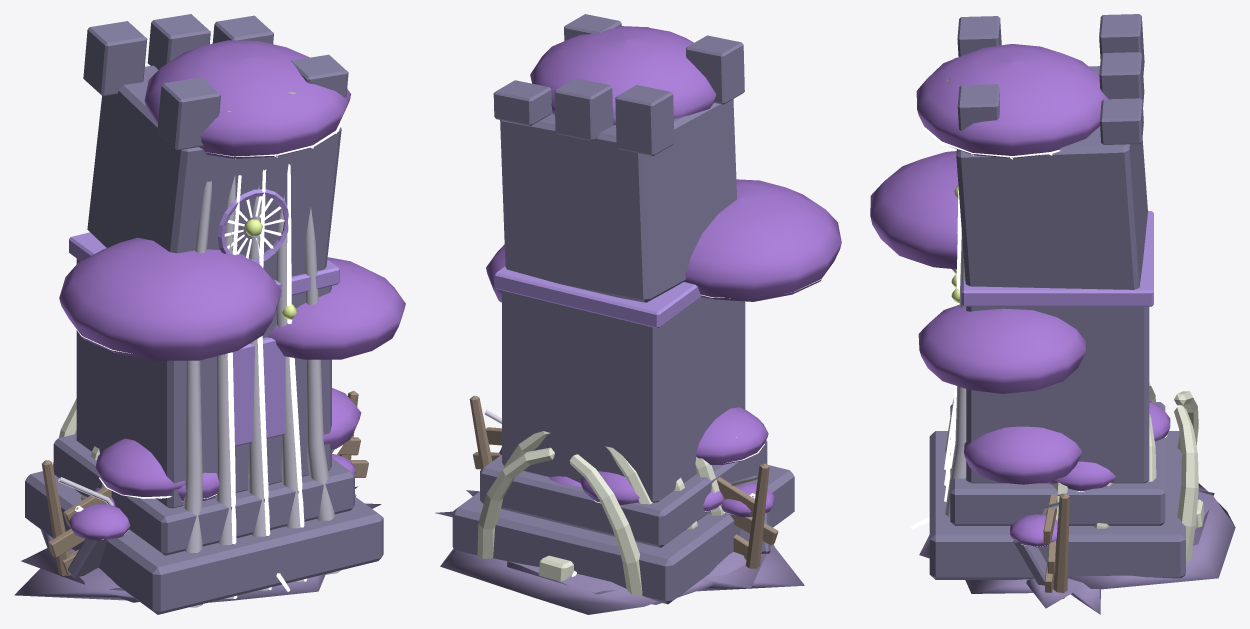
Rendered from FungalF9Kit.fbx.
3 renders of one model, left to right at view 1: azimuth 30°, elevation 25°; view 2: azimuth 150°, elevation 25°; view 3: azimuth 270°, elevation 25°, orthographic. The views are drawn at different scales.
Parts seen in each view (by area): view 1: RotcapTower__TRIM, RotcapTower__CAP, RotcapTower__STEM, RotcapTower__ACCENT, RotcapTower__GLOW, RotcapCluster__CAP, RotcapTower__MOSS, BrokenBarricade__WOOD, BrokenBarricade__CAP, BrokenBarricade__TRIM, RotMyceliumWeb__MOSS, OssuaryBones__CAP; view 2: RotcapTower__TRIM, RotcapTower__CAP, OssuaryBones__ALT, RotcapTower__MOSS, RotcapTower__ACCENT, BrokenBarricade__WOOD, RotcapCluster__CAP, RotMyceliumWeb__MOSS, BrokenBarricade__CAP; view 3: RotcapTower__TRIM, RotcapTower__CAP, RotcapCluster__CAP, RotcapTower__ACCENT, RotcapTower__MOSS, OssuaryBones__ALT, BrokenBarricade__WOOD, RotcapTower__STEM, RotcapTower__GLOW, BrokenBarricade__MOSS, OssuaryBones__CAP, RotMyceliumWeb__MOSS (+2 smaller).
Boxes of the visible parts, x1,y1,x2,y2 form: RotcapTower__TRIM: (25, 14, 383, 614); RotcapTower__CAP: (59, 40, 405, 360); RotcapTower__STEM: (183, 176, 341, 607); RotcapTower__ACCENT: (69, 189, 339, 446); RotcapTower__GLOW: (68, 113, 344, 598); RotcapCluster__CAP: (95, 388, 361, 497); RotcapTower__MOSS: (14, 548, 325, 602); BrokenBarricade__WOOD: (42, 390, 368, 577); BrokenBarricade__CAP: (68, 454, 355, 540); BrokenBarricade__TRIM: (68, 539, 107, 577); RotMyceliumWeb__MOSS: (21, 547, 139, 602); OssuaryBones__CAP: (94, 472, 219, 506); RotcapTower__TRIM: (452, 14, 794, 604); RotcapTower__CAP: (486, 26, 841, 302); OssuaryBones__ALT: (477, 431, 724, 596); RotcapTower__MOSS: (440, 544, 804, 614); RotcapTower__ACCENT: (494, 266, 700, 328); BrokenBarricade__WOOD: (469, 395, 778, 568); RotcapCluster__CAP: (580, 407, 768, 505); RotMyceliumWeb__MOSS: (507, 554, 766, 594); BrokenBarricade__CAP: (499, 447, 775, 516); RotcapTower__TRIM: (929, 14, 1185, 579); RotcapTower__CAP: (870, 44, 1108, 393); RotcapCluster__CAP: (964, 402, 1170, 484); RotcapTower__ACCENT: (962, 211, 1153, 306); RotcapTower__MOSS: (919, 483, 1235, 589); OssuaryBones__ALT: (1053, 383, 1204, 562); BrokenBarricade__WOOD: (1043, 493, 1069, 598); RotcapTower__STEM: (944, 231, 966, 517); RotcapTower__GLOW: (922, 122, 1060, 501); BrokenBarricade__MOSS: (1026, 578, 1100, 614); OssuaryBones__CAP: (1049, 450, 1156, 491); RotMyceliumWeb__MOSS: (965, 490, 1214, 593).
Size of the model in its own units: 17.78 by 23.54 by 15.98.
